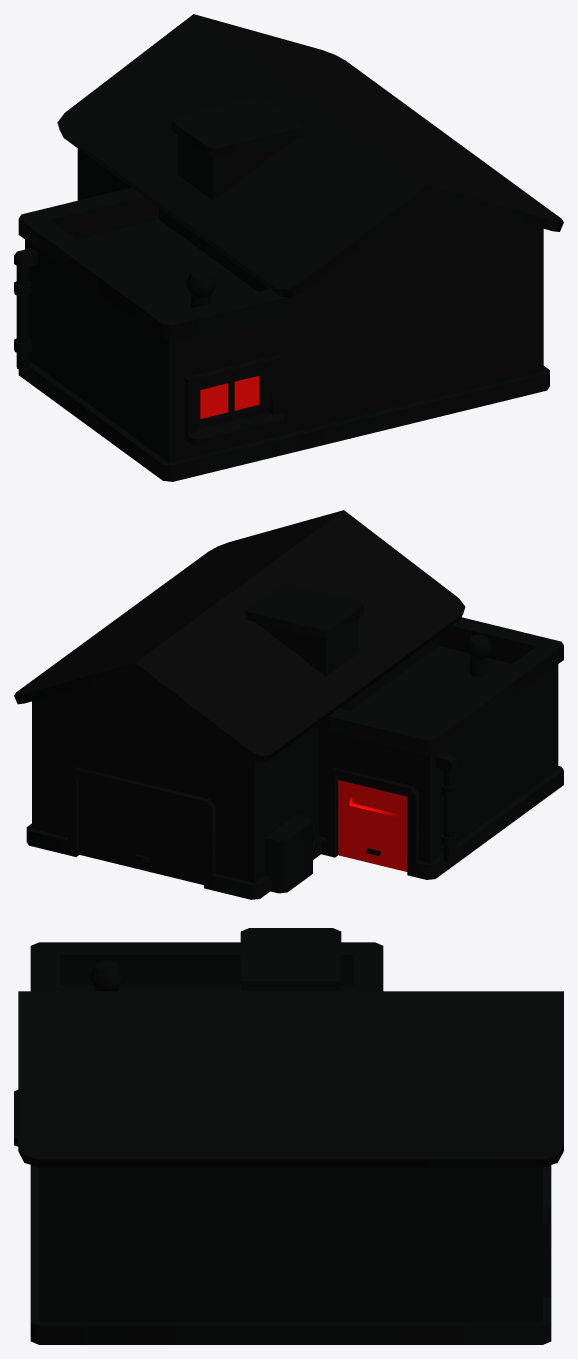
Rendered from building-h.glb.
The picture shows the model from 3 angles, top to bottom: view 1: azimuth 30°, elevation 25°; view 2: azimuth 150°, elevation 25°; view 3: azimuth 270°, elevation 25°; orthographic projection. The views are drawn at different scales.
Parts seen in each view (by area): view 1: building-h; view 2: building-h; view 3: building-h.
Part boxes in pixels (bbox=[...]): building-h: bbox=[14, 14, 563, 481]; building-h: bbox=[14, 510, 563, 899]; building-h: bbox=[14, 928, 563, 1344].
Bounding box in the file's own units: 1.32 × 0.7336 × 1.31.
1 material, 1 textured.
